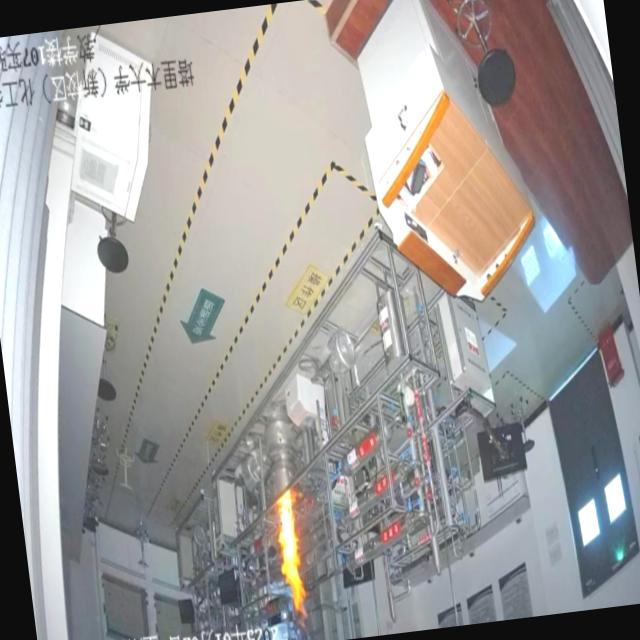fire: (249, 474, 314, 624)
